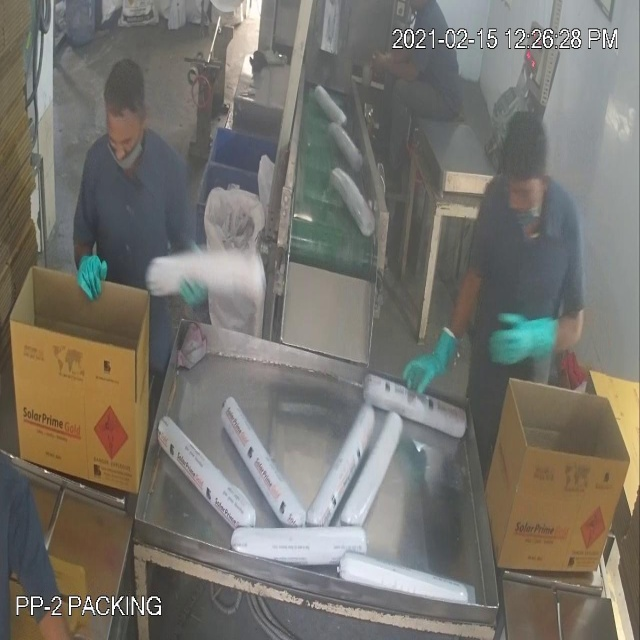Guantes: (389, 306, 468, 414), (486, 298, 570, 393), (71, 240, 114, 314)
Sin_guantes: (359, 43, 427, 89)
